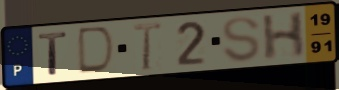2: (175, 19, 208, 67)
D: (75, 24, 118, 76)
H: (260, 10, 307, 63)
S: (220, 15, 263, 64)
T: (131, 21, 164, 73), (36, 29, 70, 77)
